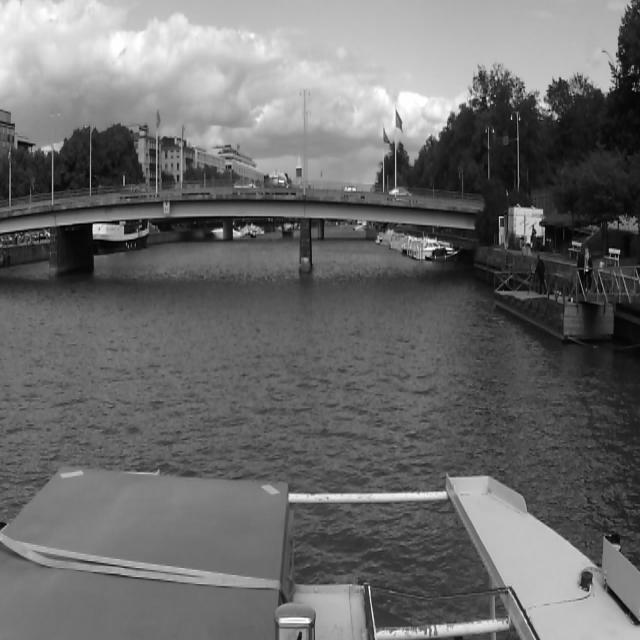ship: (423, 249, 464, 267)
